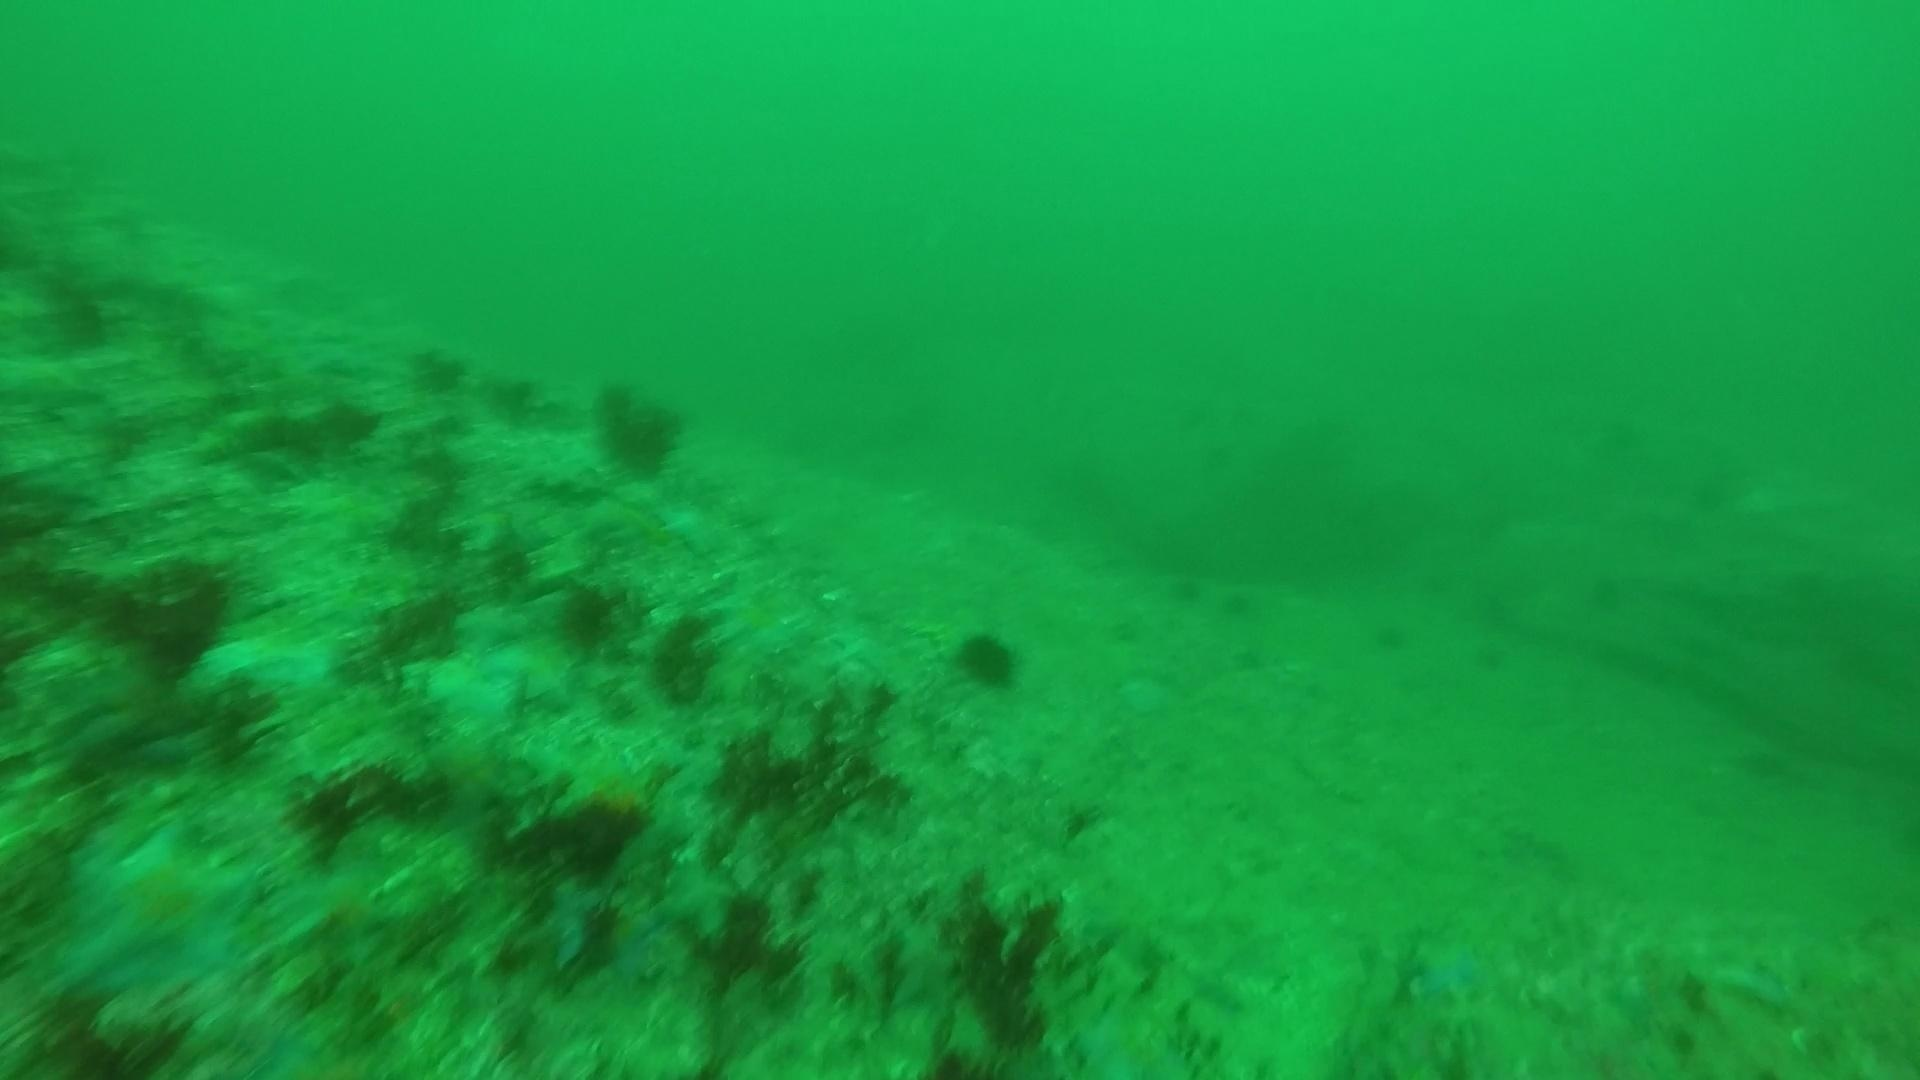echinus: (948, 622, 1026, 694), (1220, 411, 1253, 436), (1232, 649, 1265, 673), (1370, 626, 1403, 650), (1474, 645, 1507, 669), (1200, 444, 1233, 468), (1171, 410, 1204, 434), (1698, 475, 1731, 498), (1589, 582, 1622, 605), (1172, 578, 1203, 603), (1226, 589, 1255, 615)
starfish: (50, 814, 264, 1007), (185, 621, 349, 704), (1065, 1001, 1197, 1077), (702, 578, 812, 662), (1400, 927, 1499, 1009), (476, 632, 582, 708), (556, 898, 647, 980), (653, 493, 736, 560)
